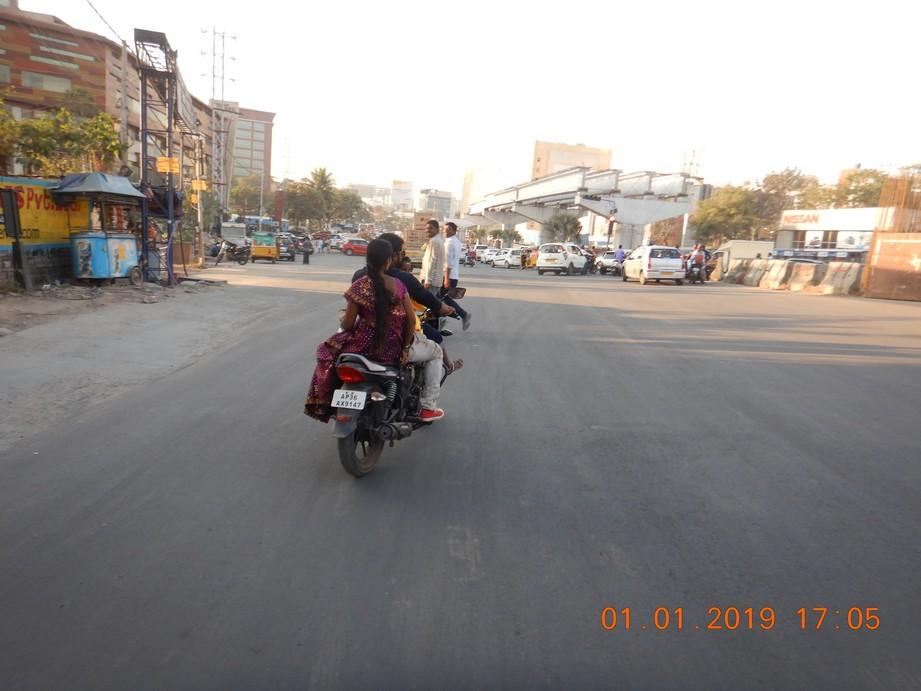plate: (332, 390, 365, 411)
